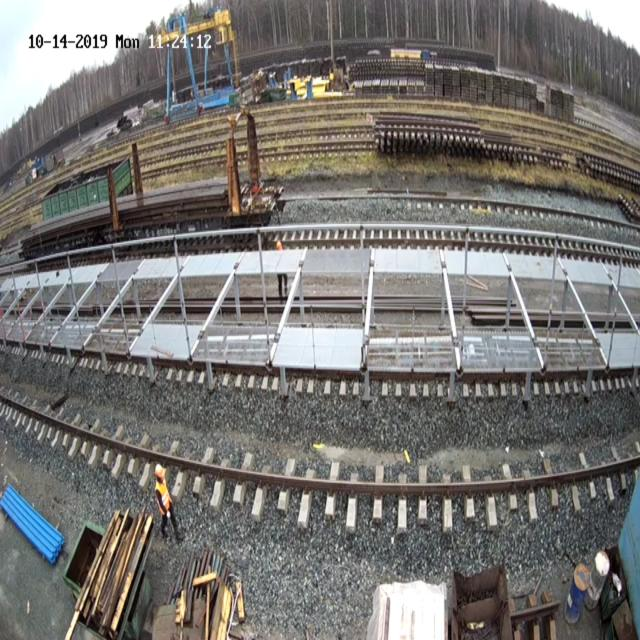Helmet: (154, 464, 165, 478)
Person: (154, 462, 183, 542), (276, 239, 288, 303)
